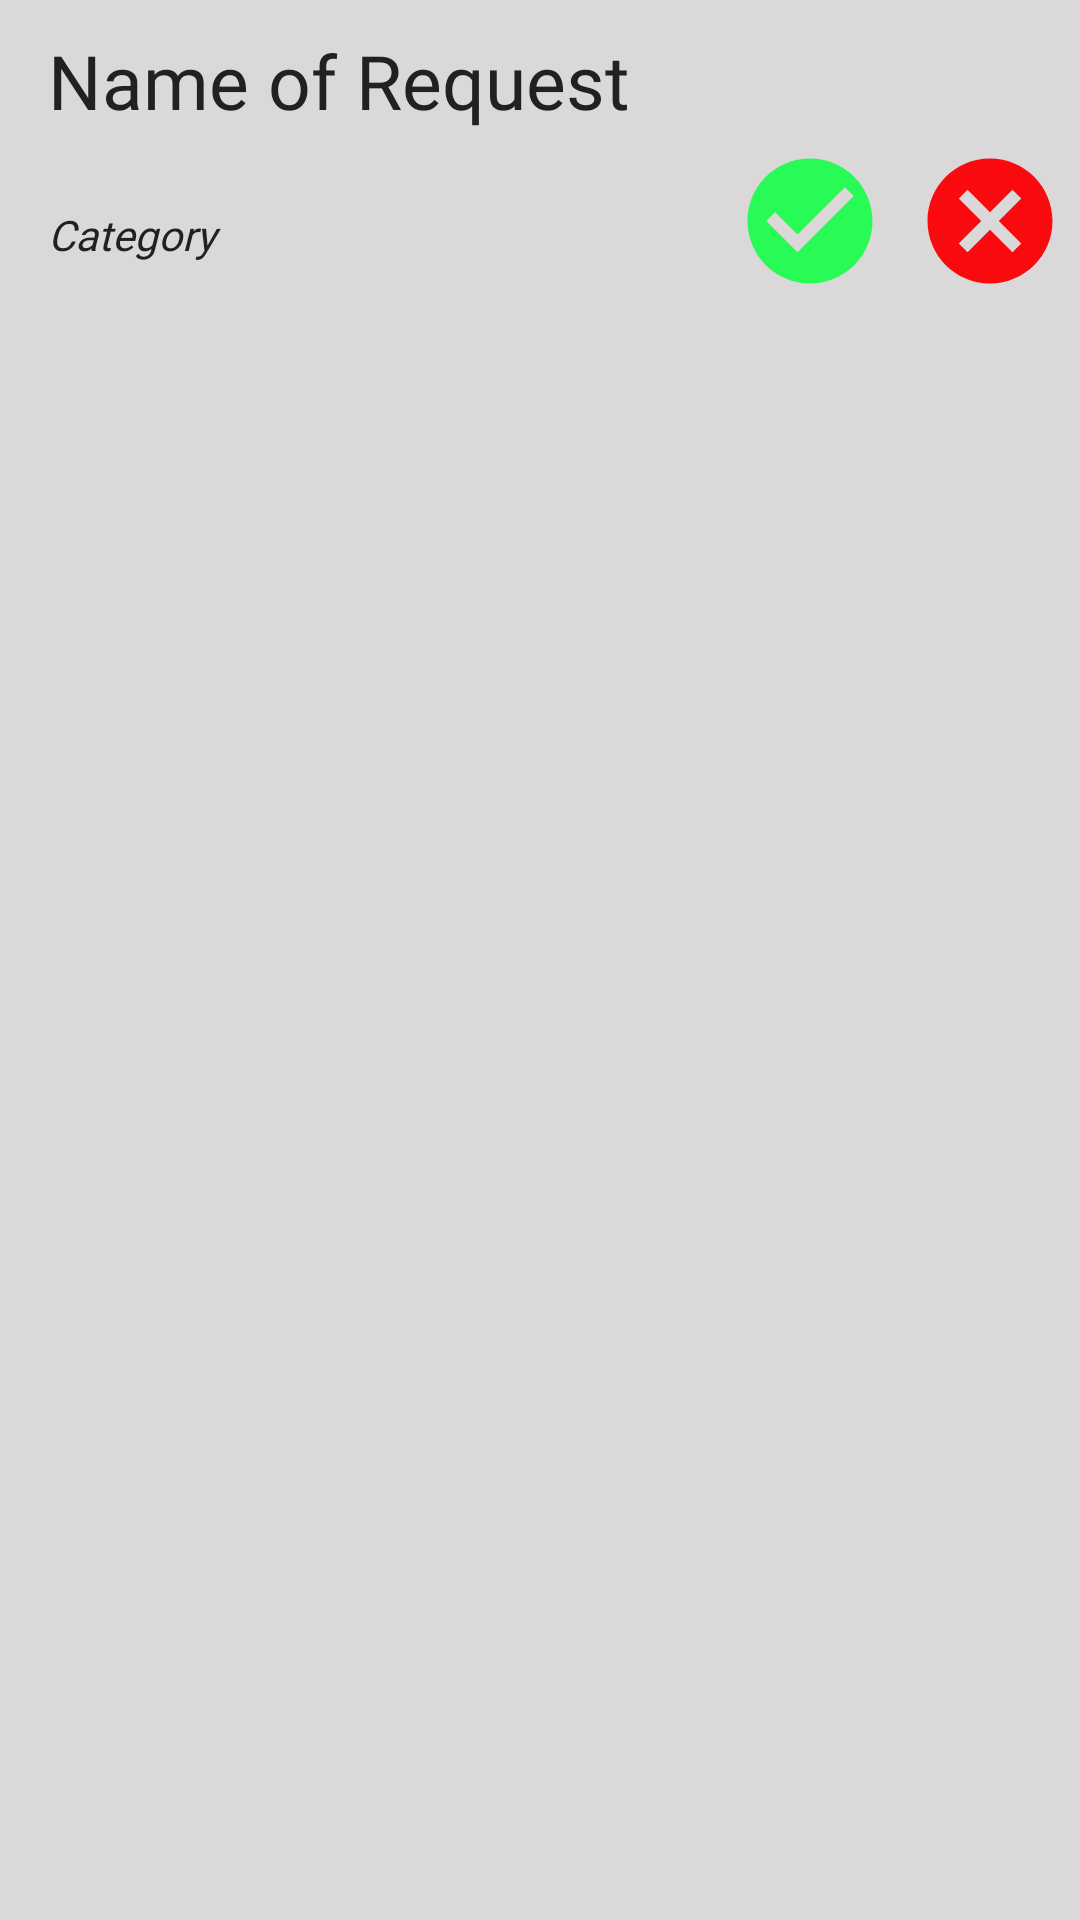

Where icons sit on this 1080px x 1920px app screen, as (x1, y1, x2, y2):
cross: (927, 158, 1053, 284)
tick: (747, 158, 873, 284)
